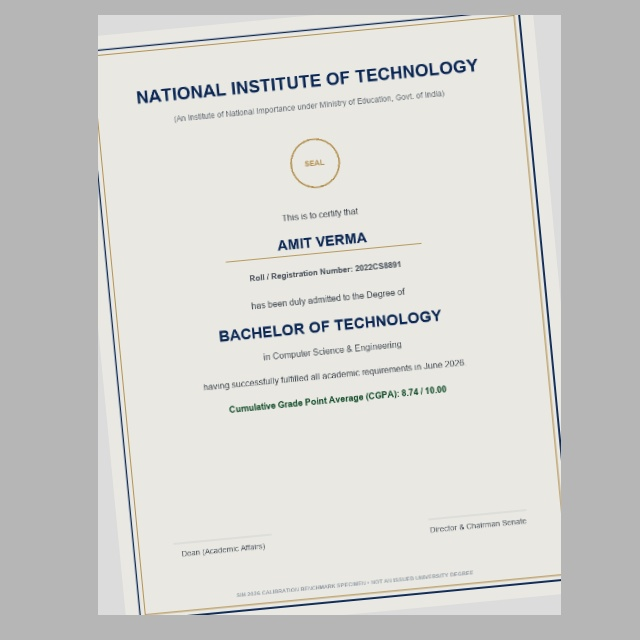marksheet: (98, 15, 561, 615)
